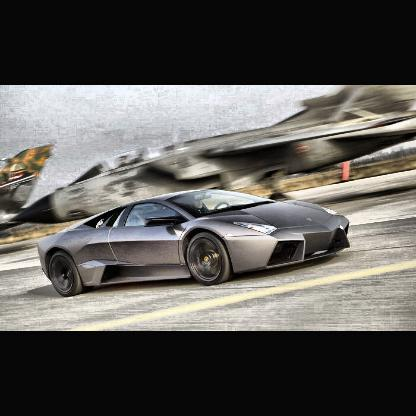Lamborghini Reventon Coupe 2008: (36, 187, 353, 298)
